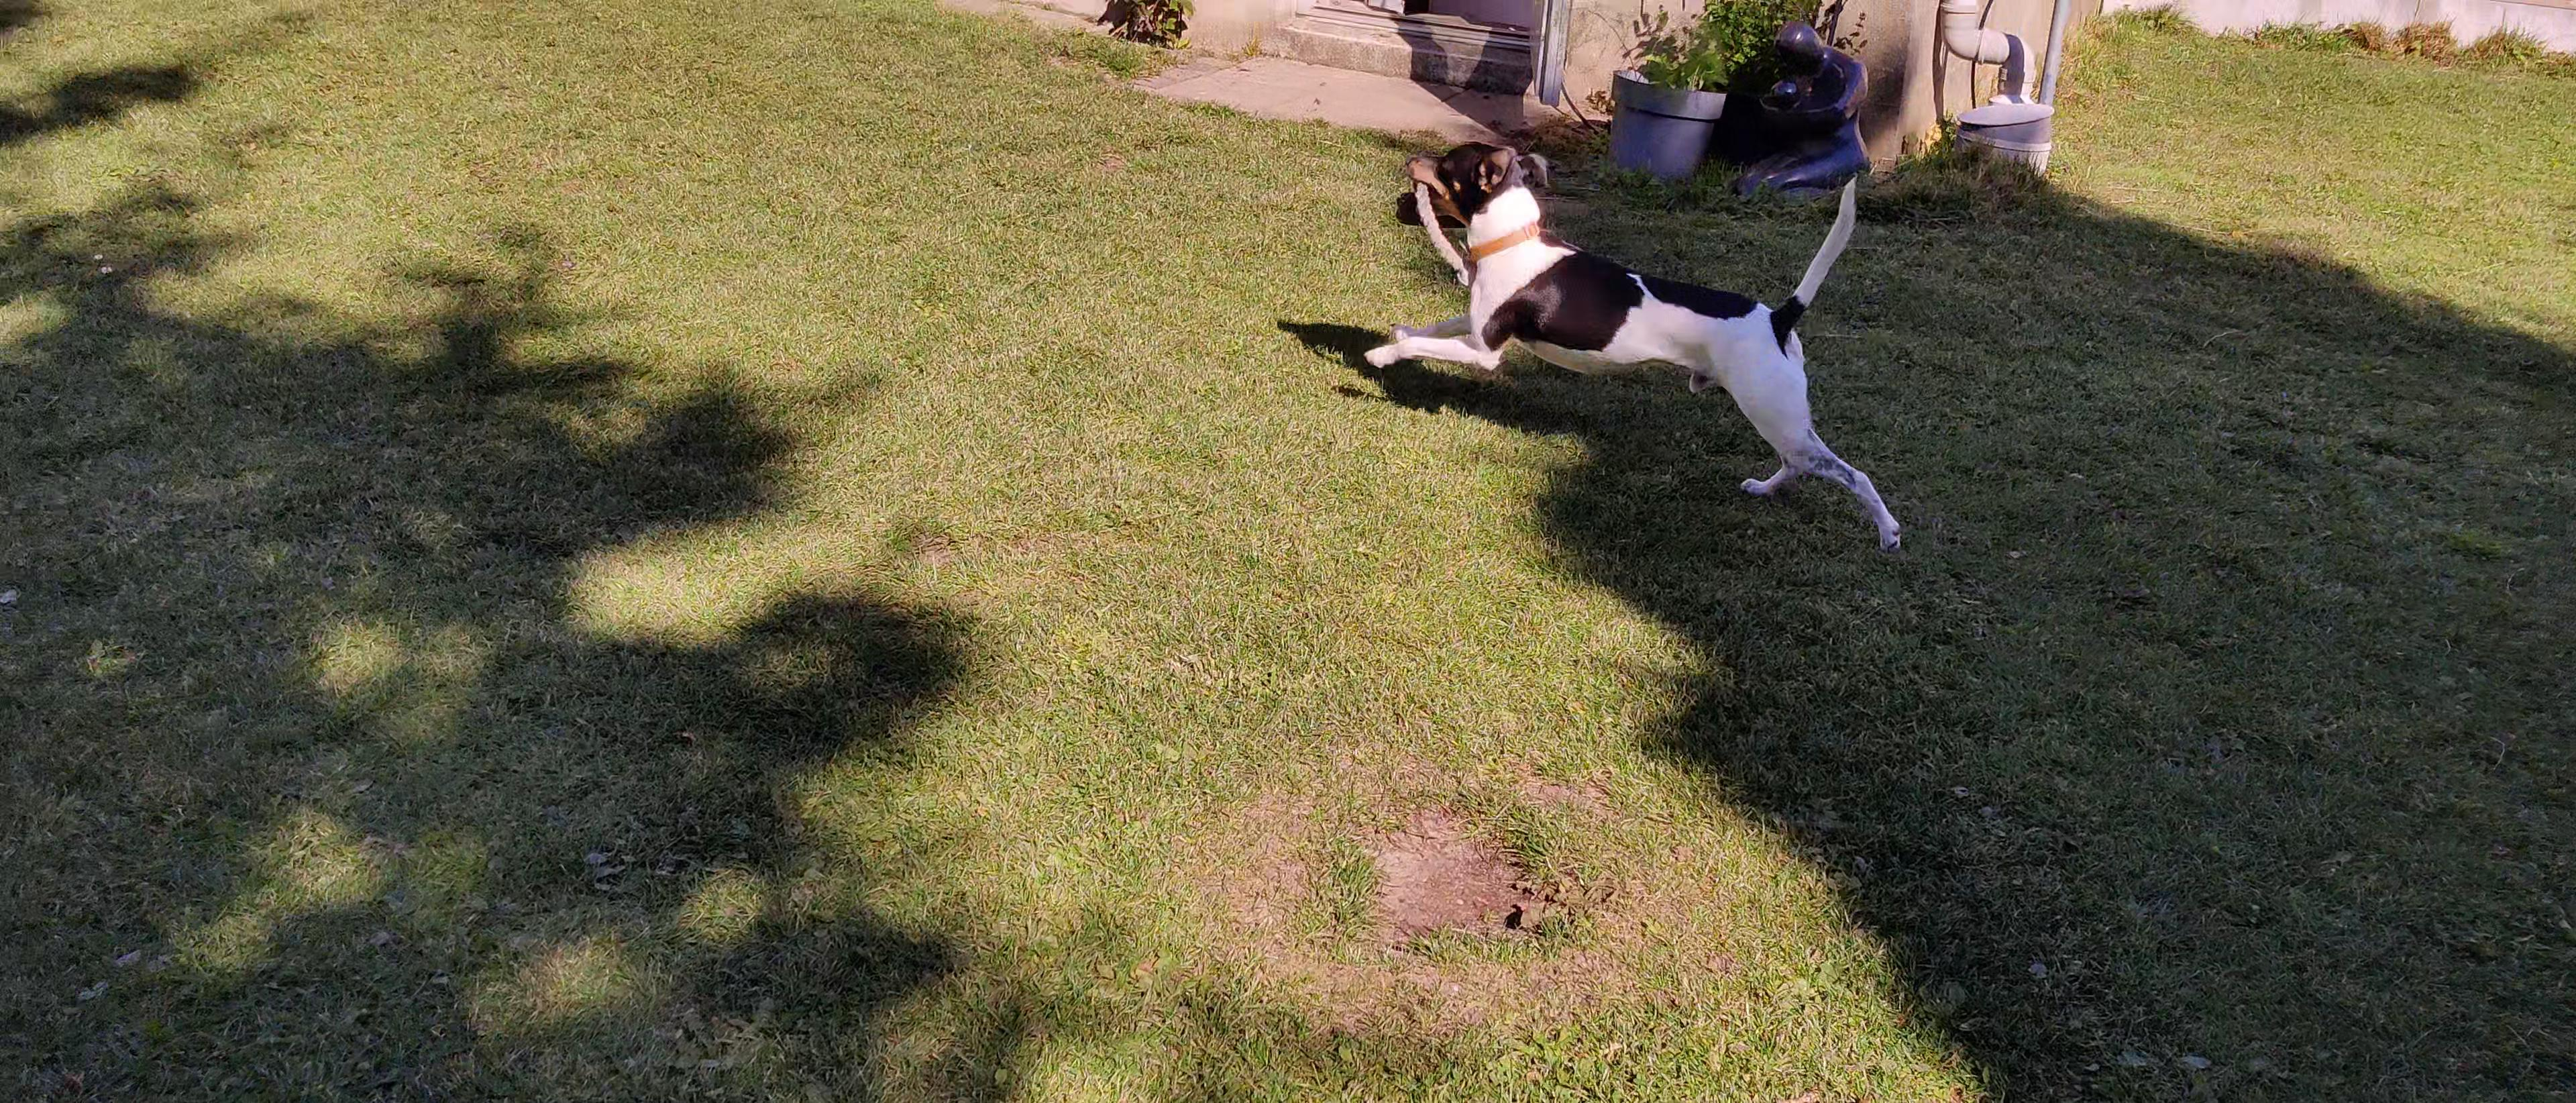Dog: (1352, 127, 1911, 561)
